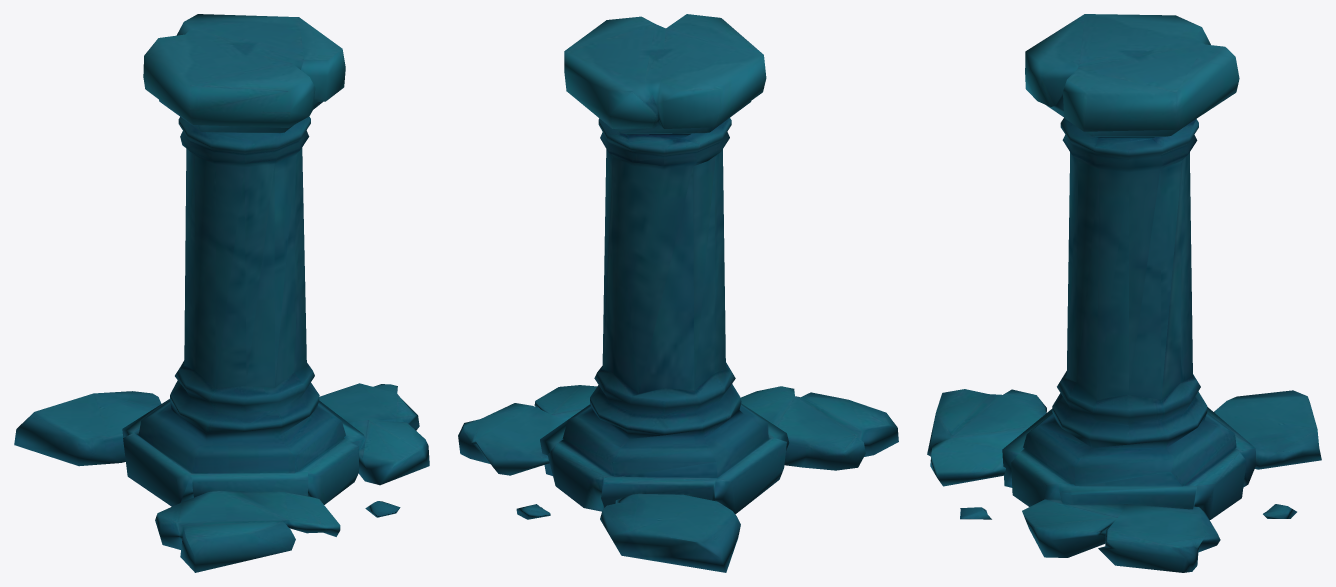
File: pillar.glb
3 renders of one model, left to right at view 1: azimuth 30°, elevation 25°; view 2: azimuth 150°, elevation 25°; view 3: azimuth 270°, elevation 25°, orthographic. The views are drawn at different scales.
Bounding box in the file's own units: 0.7671 × 0.9546 × 0.7866.
Materials: 1 (1 with a texture image).
